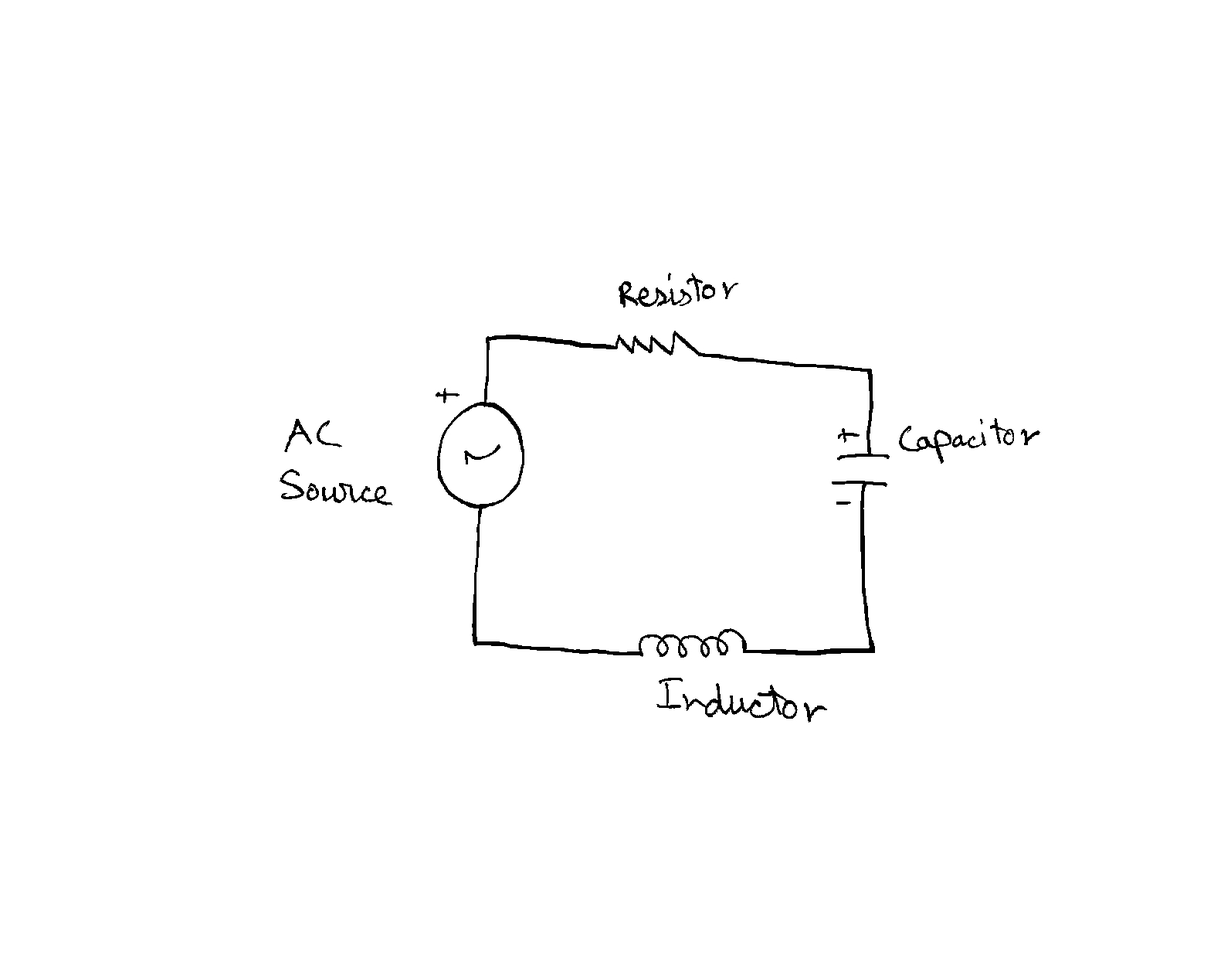capacitor.polarized: (825, 425, 895, 510)
inductor: (636, 622, 749, 663)
junction: (464, 627, 492, 655), (858, 362, 878, 382), (480, 330, 499, 349), (863, 641, 880, 658)
resistor: (611, 326, 703, 361)
text: (650, 675, 829, 725), (616, 269, 740, 311), (278, 466, 392, 509), (895, 421, 1035, 456), (281, 414, 345, 454)
voltage.ac: (432, 383, 532, 519)
